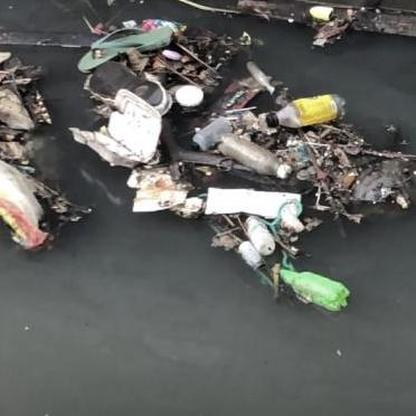foam: (65, 88, 164, 171), (205, 183, 304, 218)
plastic bottle: (275, 265, 349, 313), (222, 132, 291, 180), (266, 93, 346, 127), (244, 213, 275, 254), (192, 119, 230, 152)
